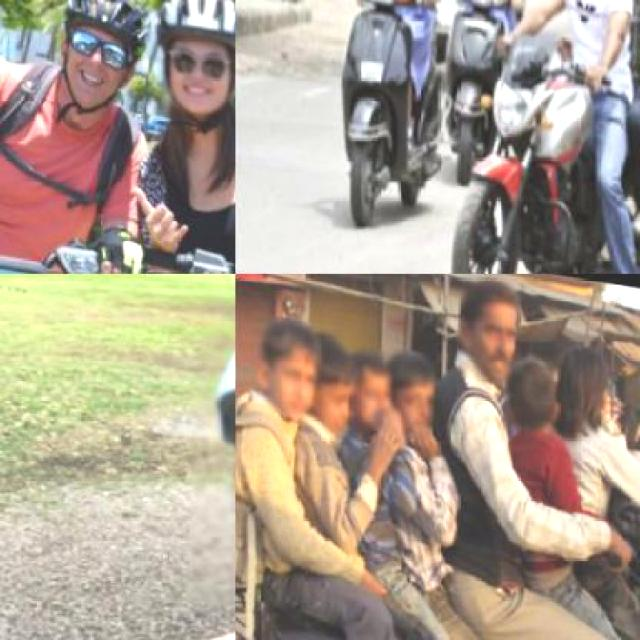With Helmet: (166, 274, 234, 638), (48, 0, 154, 122), (138, 0, 234, 128)
Without Helmet: (294, 322, 364, 438), (449, 274, 523, 383), (248, 311, 321, 418), (376, 344, 439, 441), (550, 336, 615, 429), (497, 344, 563, 434), (341, 342, 393, 430)
